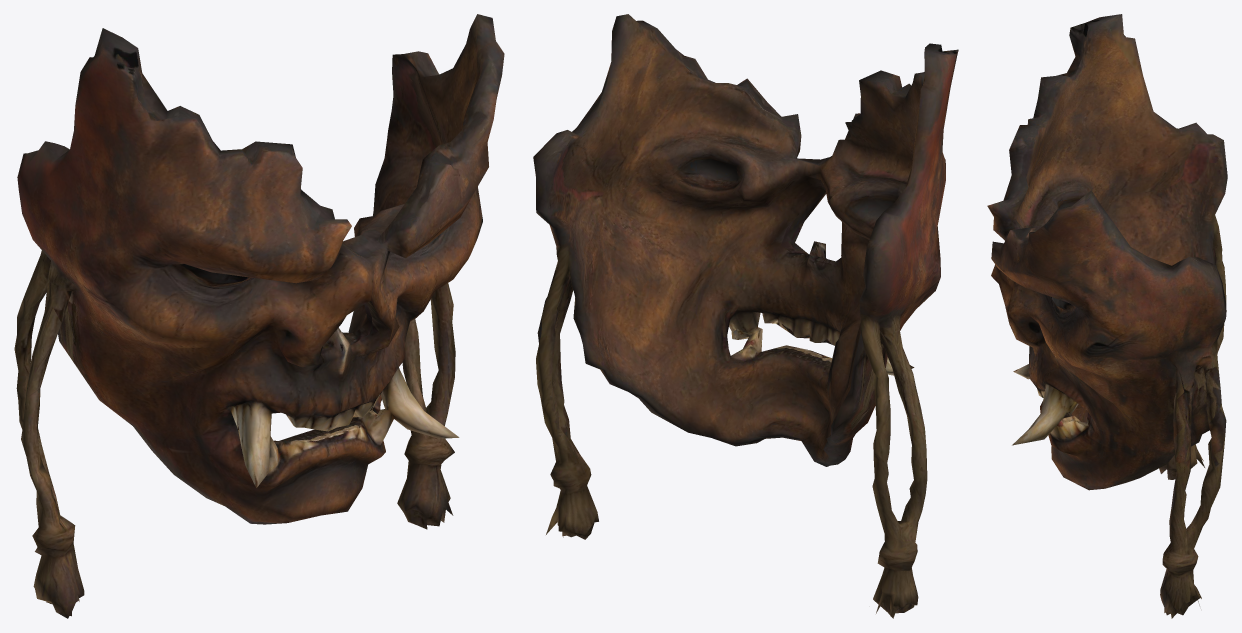
The model's file is Eternal_Oni_0826095647_texture.fbx.
3 renders of one model, left to right at view 1: azimuth 30°, elevation 25°; view 2: azimuth 150°, elevation 25°; view 3: azimuth 270°, elevation 25°, orthographic. The views are drawn at different scales.
Visible parts, largest first — view 1: Mesh1.0; view 2: Mesh1.0; view 3: Mesh1.0.
Boxes of the visible parts, x1=… form: Mesh1.0: x1=14, y1=14, x2=504, y2=618; Mesh1.0: x1=533, y1=14, x2=958, y2=618; Mesh1.0: x1=987, y1=14, x2=1227, y2=618.
Bounding box in the file's own units: 147 × 199 × 93.38.
1 material, 1 textured.
